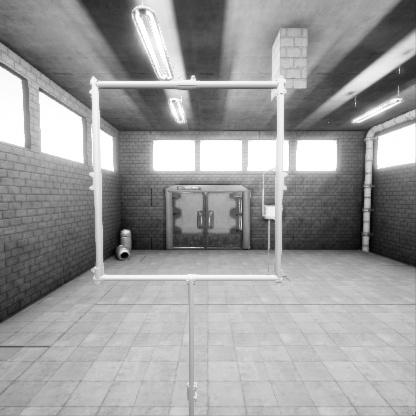gate: (107, 149, 294, 332), (262, 197, 277, 251)
